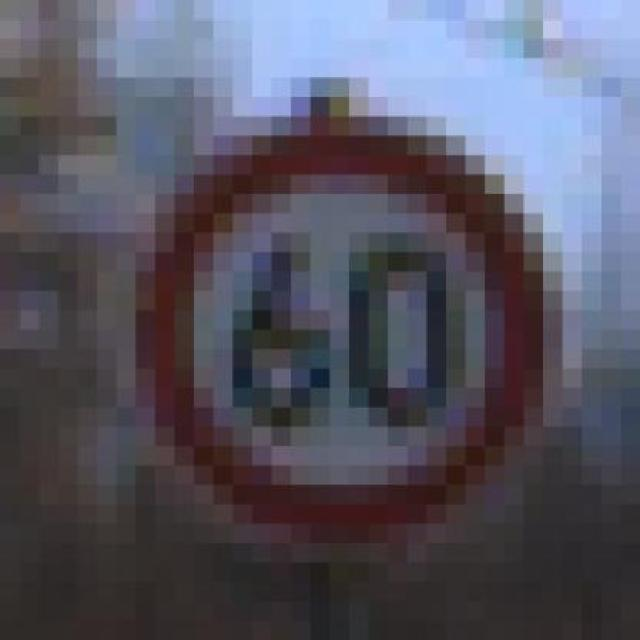forb_speed_over_60: (146, 124, 543, 536)
